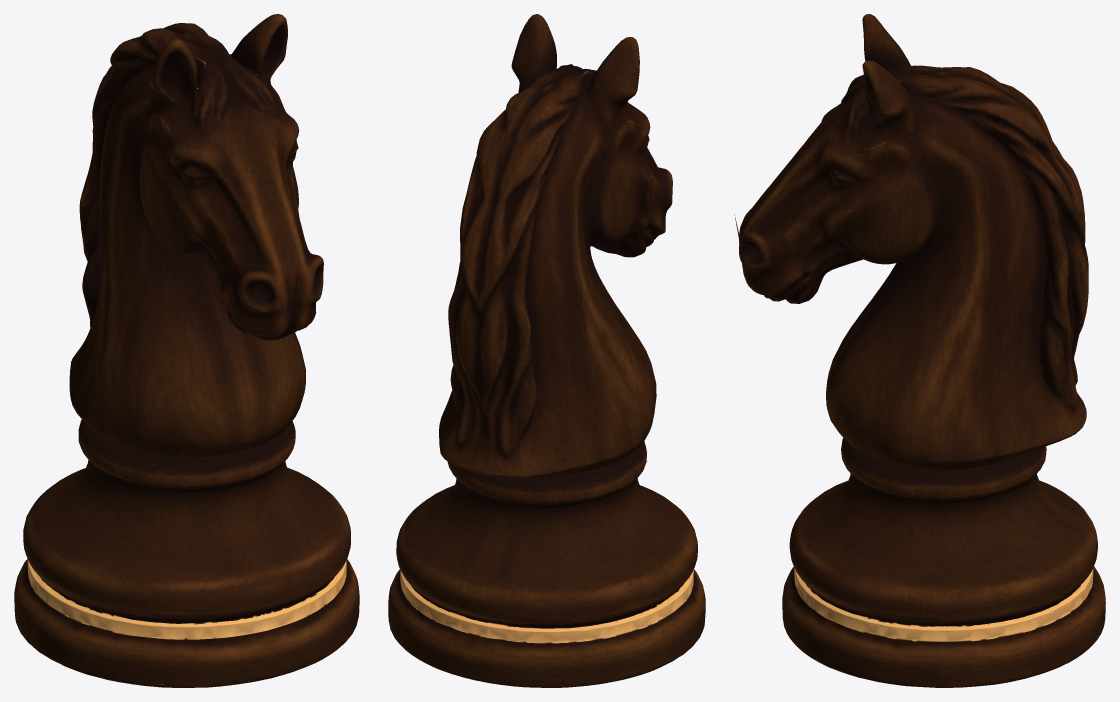
File: 08_knight_dark.glb
3 renders of one model, left to right at view 1: azimuth 30°, elevation 25°; view 2: azimuth 150°, elevation 25°; view 3: azimuth 270°, elevation 25°, orthographic. The views are drawn at different scales.
Visible parts, largest first — view 1: world; view 2: world; view 3: world.
Part boxes in pixels (x1,y1,x2,y2): world: (14,14,359,687); world: (388,14,705,687); world: (734,14,1105,687).
Bounding box in the file's own units: 0.508 × 1 × 0.5806.
1 material, 1 textured.
